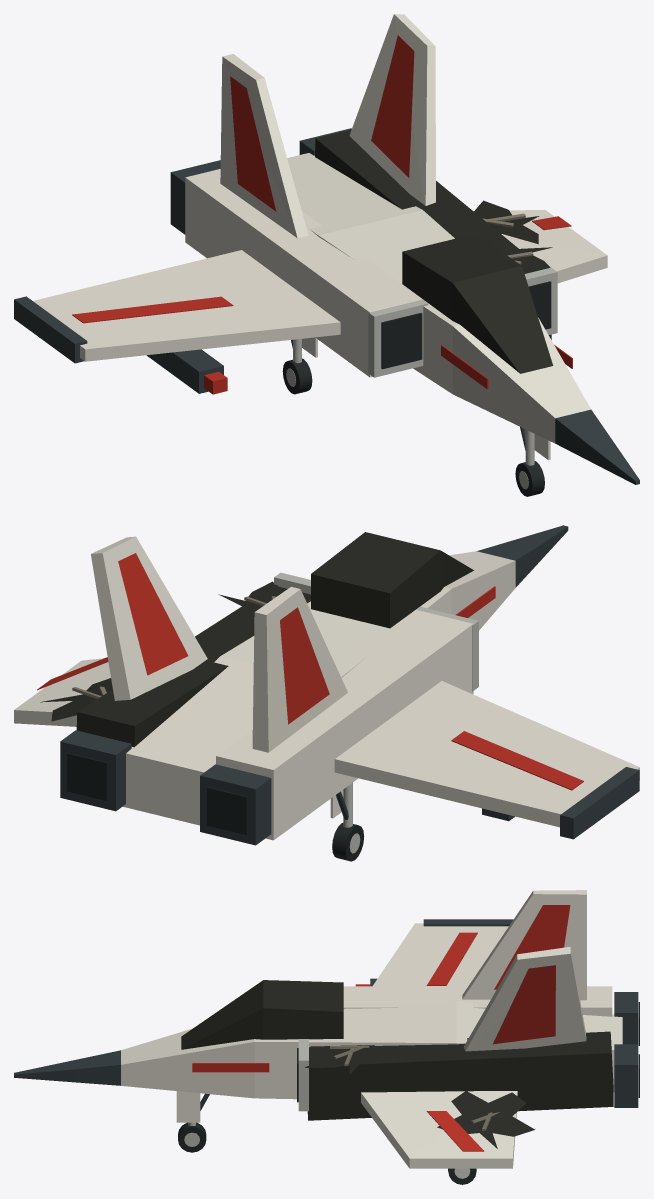
The picture shows the model from 3 angles, top to bottom: view 1: azimuth 30°, elevation 25°; view 2: azimuth 150°, elevation 25°; view 3: azimuth 270°, elevation 25°; orthographic projection. The views are drawn at different scales.
Visible parts, largest first — view 1: jet-a-damaged-fleet-armor, jet-a-damaged-fleet-damage-charred, jet-a-damaged-fleet-red, jet-a-damaged-fleet-machine, jet-a-damaged-fleet-rubber, jet-a-damaged-fleet-edge, gear-wheel-nose-0-0-fleet-rubber, gear-wheel-left-0-0-fleet-rubber; view 2: jet-a-damaged-fleet-armor, jet-a-damaged-fleet-damage-charred, jet-a-damaged-fleet-machine, jet-a-damaged-fleet-red, jet-a-damaged-fleet-rubber, jet-a-damaged-fleet-edge, gear-wheel-left-0-0-fleet-rubber; view 3: jet-a-damaged-fleet-armor, jet-a-damaged-fleet-damage-charred, jet-a-damaged-fleet-red, jet-a-damaged-fleet-machine, jet-a-damaged-fleet-edge, landing-gear-nose-fleet-armor, gear-wheel-nose-0-0-fleet-rubber, jet-a-damaged-fleet-damage-metal.
Part boxes in pixels (x1,y1,x2,y2): jet-a-damaged-fleet-armor: (33,14,607,443); jet-a-damaged-fleet-damage-charred: (315,129,553,373); jet-a-damaged-fleet-red: (72,35,572,394); jet-a-damaged-fleet-machine: (14,128,639,484); jet-a-damaged-fleet-rubber: (381,281,551,369); jet-a-damaged-fleet-edge: (368,267,557,377); gear-wheel-nose-0-0-fleet-rubber: (515,461,544,496); gear-wheel-left-0-0-fleet-rubber: (282,358,312,394); jet-a-damaged-fleet-armor: (14,536,639,840); jet-a-damaged-fleet-damage-charred: (40,532,473,747); jet-a-damaged-fleet-machine: (60,525,639,845); jet-a-damaged-fleet-red: (37,553,583,790); jet-a-damaged-fleet-rubber: (67,753,247,835); jet-a-damaged-fleet-edge: (274,572,478,691); gear-wheel-left-0-0-fleet-rubber: (332,823,364,861); jet-a-damaged-fleet-armor: (121,890,622,1168); jet-a-damaged-fleet-damage-charred: (181,980,613,1148); jet-a-damaged-fleet-red: (192,905,570,1151); jet-a-damaged-fleet-machine: (14,919,638,1107); jet-a-damaged-fleet-edge: (298,1039,308,1111); landing-gear-nose-fleet-armor: (176,1091,200,1122); gear-wheel-nose-0-0-fleet-rubber: (178,1122,206,1152); jet-a-damaged-fleet-damage-metal: (330,1045,499,1130).
Bounding box in the file's own units: 49.73 × 26.34 × 62.11.
